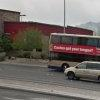Bus: (45, 26, 98, 61)
